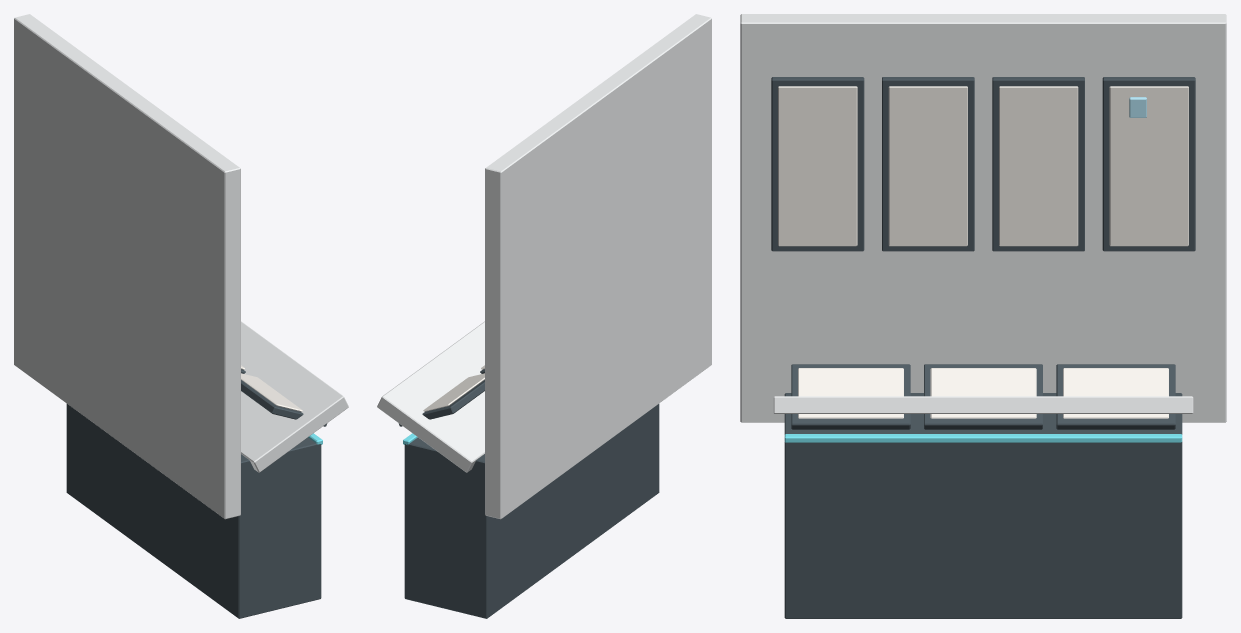
File: SM_Console_Tactical.fbx
The picture shows the model from 3 angles, left to right: view 1: azimuth 30°, elevation 25°; view 2: azimuth 150°, elevation 25°; view 3: azimuth 270°, elevation 25°; orthographic projection. The views are drawn at different scales.
Visible parts, largest first — view 1: SM_Console_Tactical; view 2: SM_Console_Tactical; view 3: SM_Console_Tactical.
Part boxes in pixels (left/top/right/bottom): SM_Console_Tactical: left=14, top=14, right=348, bottom=618; SM_Console_Tactical: left=377, top=14, right=711, bottom=618; SM_Console_Tactical: left=740, top=14, right=1226, bottom=618.
Size of the model in its own units: 83.67 by 270 by 220.
